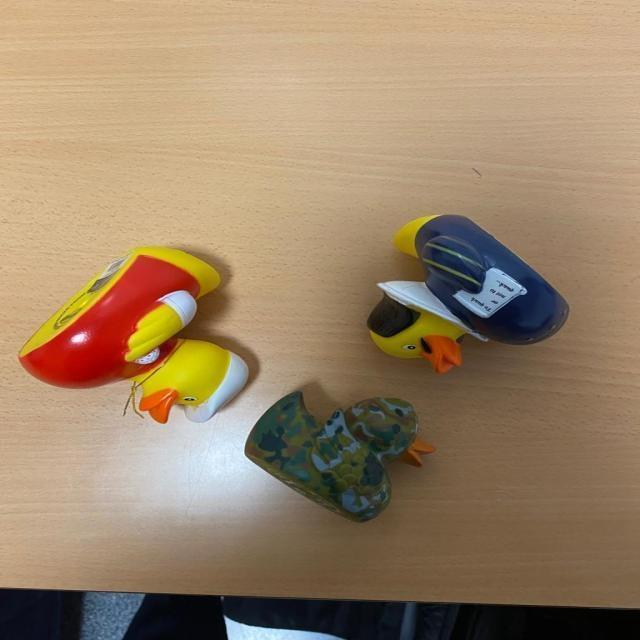rubber-duck: (18, 246, 246, 421), (367, 214, 567, 371), (244, 390, 416, 520)
